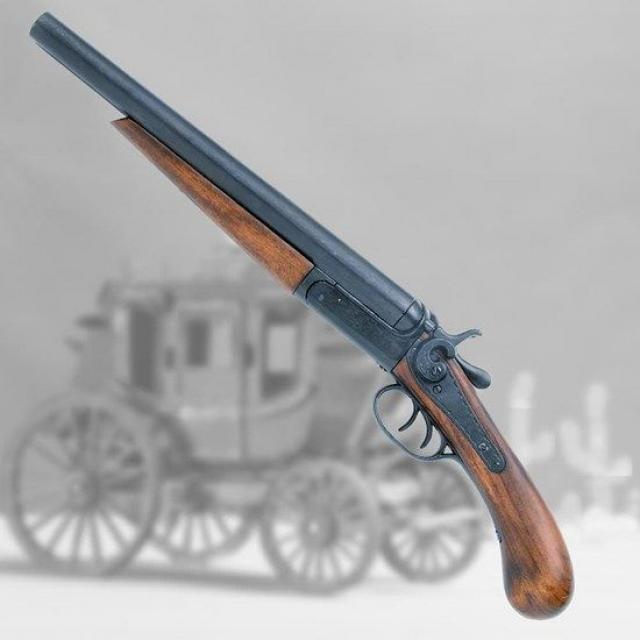shotgun: (29, 8, 581, 623)
